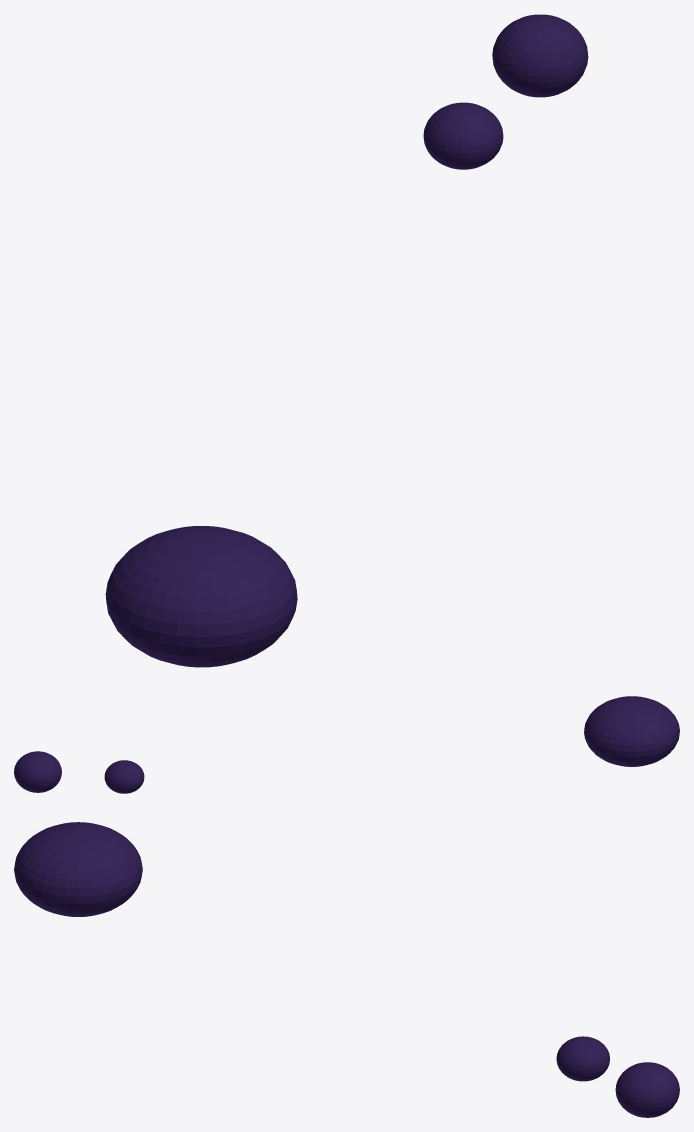
The model's file is CR_InkBlot.glb.
3 views of the same model, one above another, from view 1: azimuth 30°, elevation 25°; view 2: azimuth 150°, elevation 25°; view 3: azimuth 270°, elevation 25° (orthographic). The views are drawn at different scales.
Parts seen in each view (by area): view 1: CR_InkBlot_Main, CR_InkBlot_Sub1, CR_InkBlot_Sub2; view 2: CR_InkBlot_Main, CR_InkBlot_Sub1, CR_InkBlot_Sub2; view 3: CR_InkBlot_Main, CR_InkBlot_Sub1, CR_InkBlot_Sub2.
Boxes of the visible parts, box(x1,y1,x2,y2) form: CR_InkBlot_Main: box(105, 526, 297, 667); CR_InkBlot_Sub1: box(492, 14, 588, 97); CR_InkBlot_Sub2: box(423, 102, 503, 169); CR_InkBlot_Main: box(584, 696, 679, 766); CR_InkBlot_Sub1: box(14, 751, 61, 792); CR_InkBlot_Sub2: box(104, 760, 144, 793); CR_InkBlot_Main: box(14, 822, 142, 916); CR_InkBlot_Sub1: box(615, 1062, 679, 1117); CR_InkBlot_Sub2: box(556, 1036, 609, 1081).
Size of the model in its own units: 6.4 by 0.95 by 6.2.
